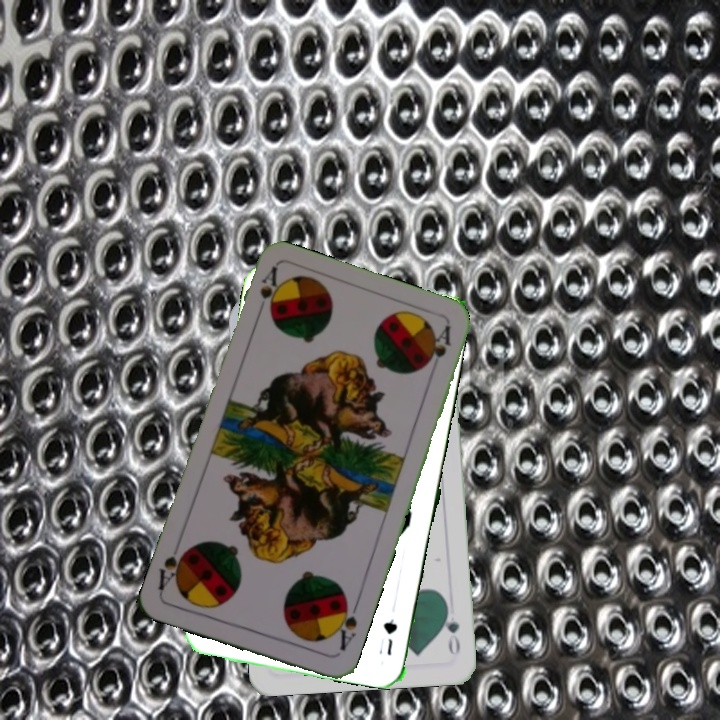GO: (439, 600, 463, 658)
GU: (381, 614, 400, 658)
SA: (329, 595, 361, 654), (252, 264, 281, 321)
